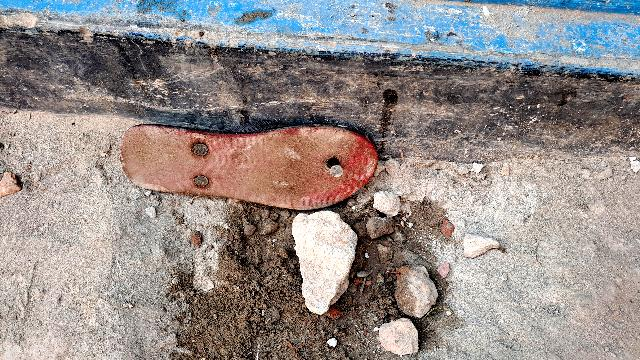sandal: (100, 97, 378, 209)
